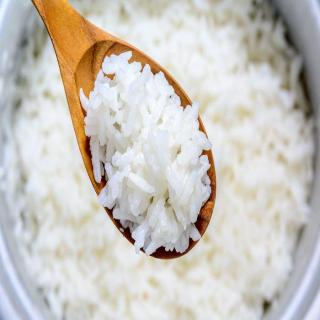Nasi: (77, 50, 218, 261)
